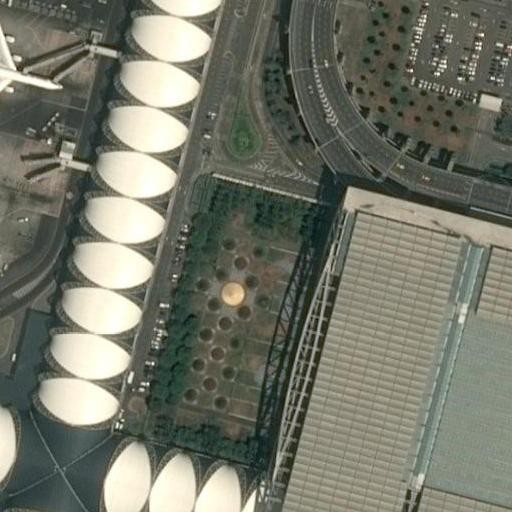Aircraft: (0, 9, 64, 125)
